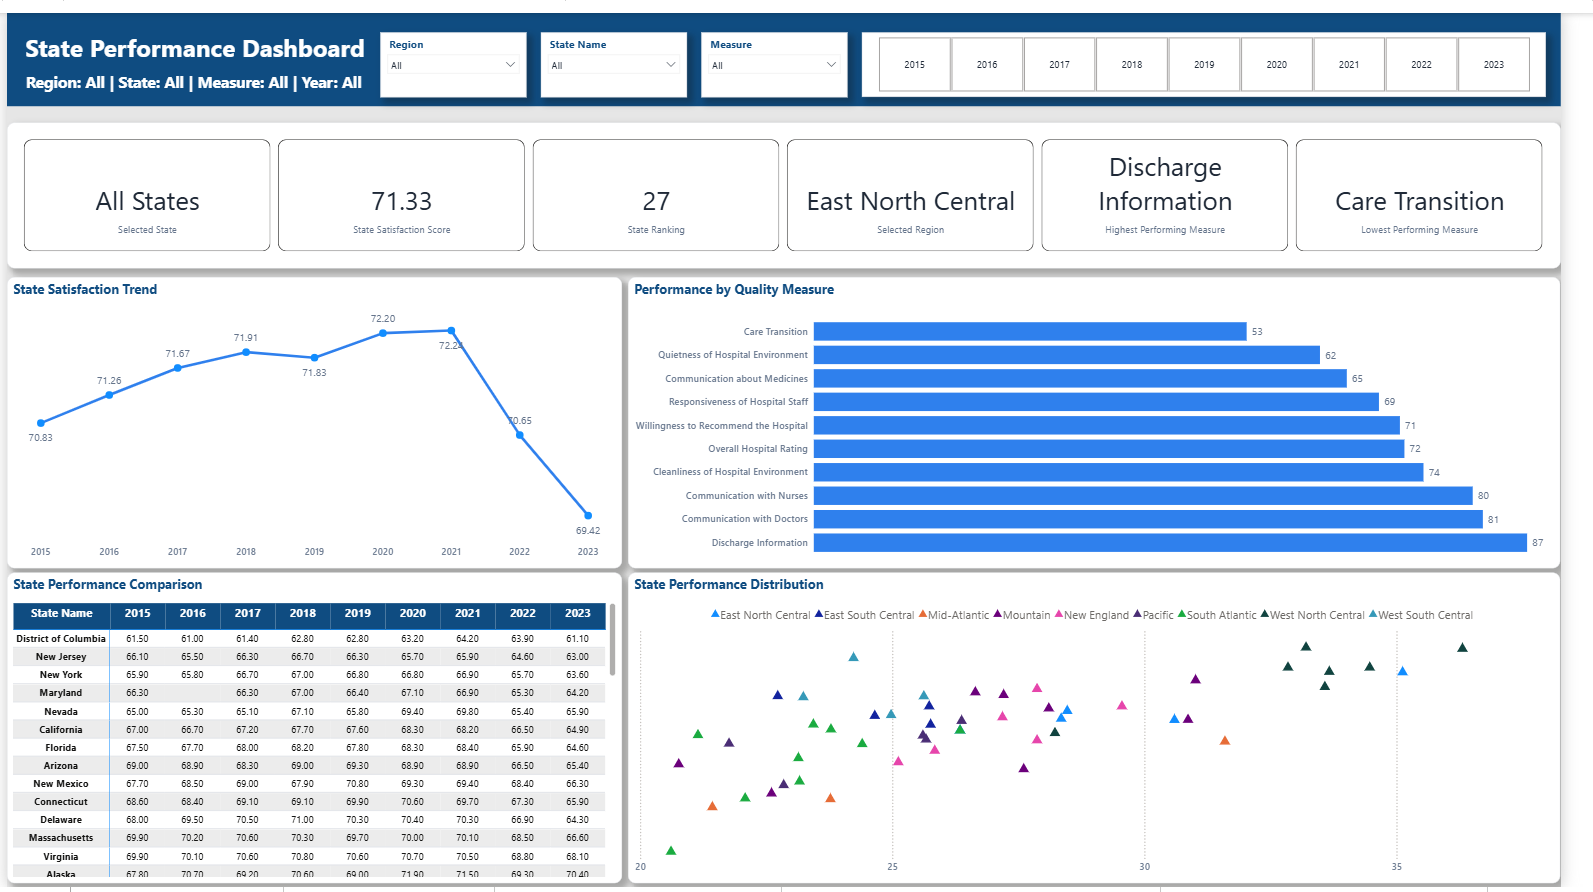

What the dashboard file says about the page in this screenshot:
{"tool":"powerbi","page":{"name":"State Performance","canvas":[2400,1350],"ordinal":1},"visuals":[{"type":"shape","box":[0,0,2400,144],"z":0},{"type":"textbox","box":[24,24,552,96],"z":1000},{"type":"slicer","fields":{"Values":["states.Region"]},"box":[576,29.1,225,100],"z":2000},{"type":"slicer","fields":{"Values":["states.State Name"]},"box":[824,29.1,225,100],"z":3000},{"type":"slicer","fields":{"Values":["measure.Measure"]},"box":[1072,29.1,225,100],"z":4000},{"type":"slicer","title":"Release Period","fields":{"Values":["reports.Release Year"]},"box":[1320,29.6,1056,99],"z":5000},{"type":"cardVisual","fields":{"Data":["Key Measures.Selected State","Key Measures.State Satisfaction Score","Key Measures.State Ranking","Min(states.Region)","Key Measures.Highest Performing Measure","Key Measures.Lowest Performing Measure"]},"box":[0,168,2400,225],"z":6000},{"type":"lineChart","title":"State Satisfaction Trend","fields":{"Category":["reports.Release Year"],"Y":["Key Measures.State Average Top-box %"]},"box":[0,408,950,450],"z":7000},{"type":"clusteredBarChart","title":"Performance by Quality Measure","fields":{"Category":["measure.Measure"],"Y":["Key Measures.State Average Top-box %"]},"box":[960,408,1440,450],"z":8000},{"type":"pivotTable","title":"State Performance Comparison","fields":{"Rows":["states.State Name"],"Columns":["reports.Release Year"],"Values":["Key Measures.State Average Top-box %"]},"box":[0,864,950,480],"z":9000},{"type":"scatterChart","title":"State Performance Distribution","fields":{"X":["Key Measures.Survey Response Rate"],"Y":["Key Measures.State Average Top-box %"],"Category":["states.State Name"],"Series":["states.Region"]},"box":[960,864,1440,480],"z":10000},{"type":"card","fields":{"Values":["Key Measures.Dashboard Filter Summary"]},"box":[0,72,576,72],"z":11000}]}

Visuals, with their boxes in screenshot pixels (x1, y1, x2, y2), scaled from the page's 2400x1350 canvas onto the 1593x892 screenshot:
shape: detection(0, 0, 1592, 95)
textbox: detection(16, 16, 382, 79)
slicer - states.Region: detection(382, 19, 532, 85)
slicer - states.State Name: detection(547, 19, 696, 85)
slicer - measure.Measure: detection(712, 19, 861, 85)
"Release Period" slicer: detection(876, 20, 1577, 85)
cardVisual - Key Measures.Selected State x Key Measures.State Satisfaction Score: detection(0, 111, 1592, 260)
"State Satisfaction Trend" lineChart: detection(0, 270, 631, 567)
"Performance by Quality Measure" clusteredBarChart: detection(637, 270, 1592, 567)
"State Performance Comparison" pivotTable: detection(0, 571, 631, 888)
"State Performance Distribution" scatterChart: detection(637, 571, 1592, 888)
card - Key Measures.Dashboard Filter Summary: detection(0, 48, 382, 95)
